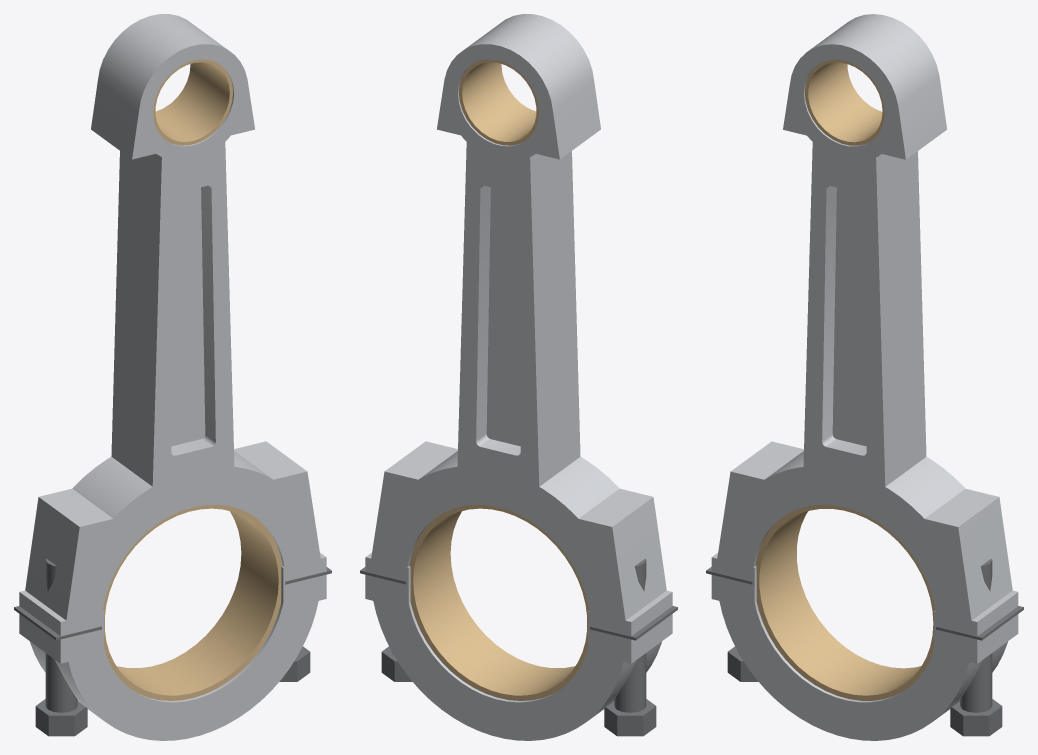
File: conrod.glb
3 renders of one model, left to right at view 1: azimuth 30°, elevation 25°; view 2: azimuth 150°, elevation 25°; view 3: azimuth 330°, elevation 25°, orthographic.
Parts seen in each view (by area): view 1: forged_0, bearing_2, darksteel_1; view 2: forged_0, bearing_2, darksteel_1; view 3: forged_0, bearing_2, darksteel_1.
Part boxes in pixels (left/top/right/bottom): forged_0: left=19, top=14, right=326, bottom=740; bearing_2: left=103, top=59, right=282, bottom=700; darksteel_1: left=14, top=558, right=331, bottom=736; forged_0: left=365, top=14, right=672, bottom=740; bearing_2: left=409, top=59, right=588, bottom=700; darksteel_1: left=360, top=558, right=677, bottom=736; forged_0: left=711, top=14, right=1018, bottom=740; bearing_2: left=755, top=59, right=934, bottom=700; darksteel_1: left=706, top=558, right=1023, bottom=736.
Size of the model in its own units: 0.083 by 0.1989 by 0.0219.
